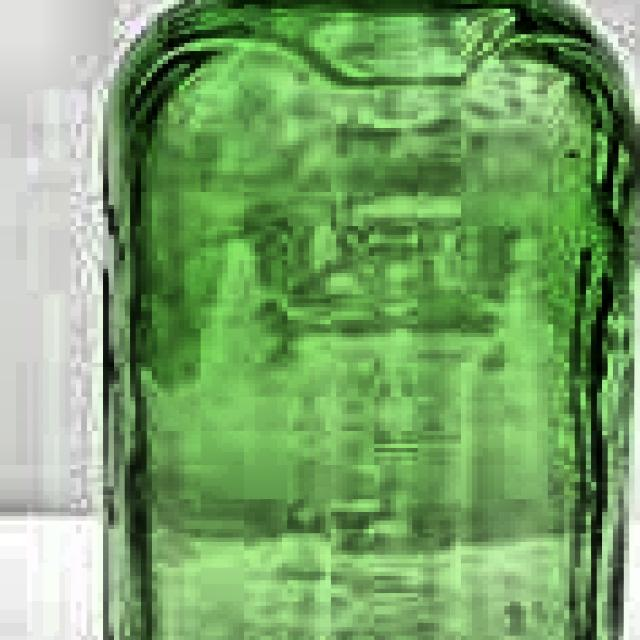glass: (98, 0, 640, 640)
